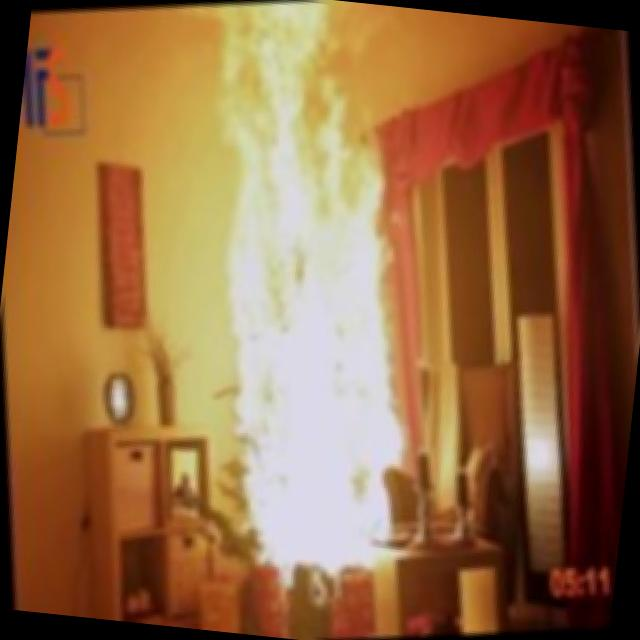fire: (120, 0, 529, 617)
